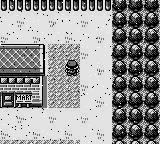main: (64, 60, 80, 76)
no-caminable: (112, 0, 159, 144), (1, 45, 44, 107), (0, 0, 112, 11)
puerta: (2, 93, 14, 107)
